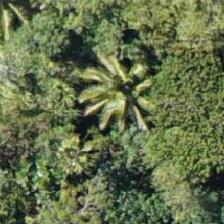coconut_tree: (64, 38, 154, 128)
